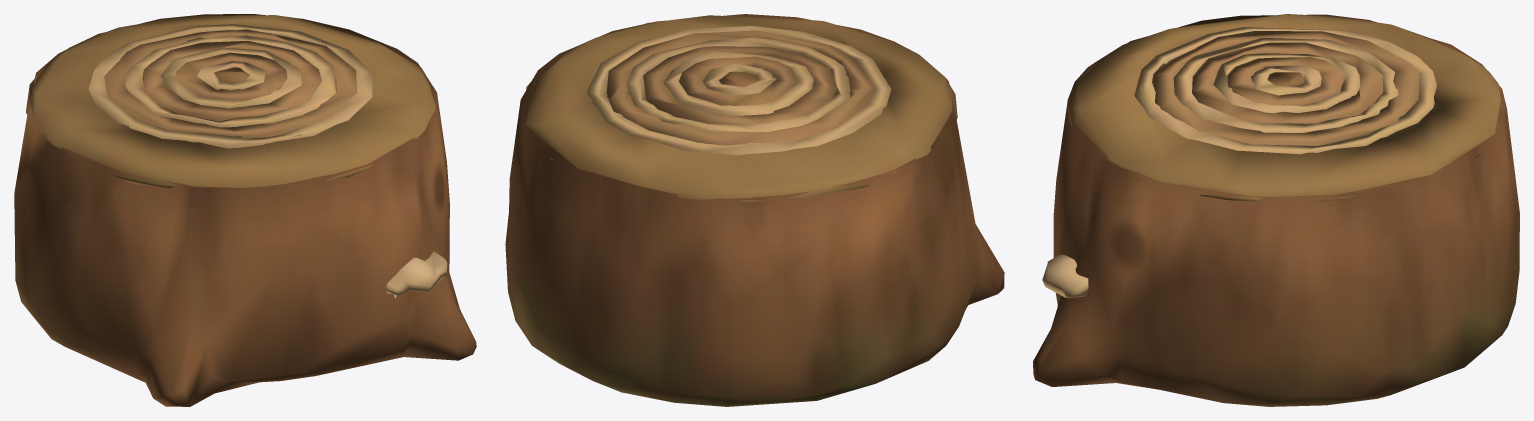
The model's file is tree-stump.glb.
3 views of the same model, side by side, from view 1: azimuth 30°, elevation 25°; view 2: azimuth 150°, elevation 25°; view 3: azimuth 270°, elevation 25° (orthographic). The views are drawn at different scales.
Parts seen in each view (by area): view 1: bark; view 2: bark; view 3: bark.
Boxes of the visible parts, bbox=[...] form: bark: bbox=[14, 14, 476, 406]; bark: bbox=[505, 14, 1004, 406]; bark: bbox=[1033, 14, 1519, 406].
Size of the model in its own units: 0.8807 by 0.502 by 0.9184.
1 material, 1 textured.
